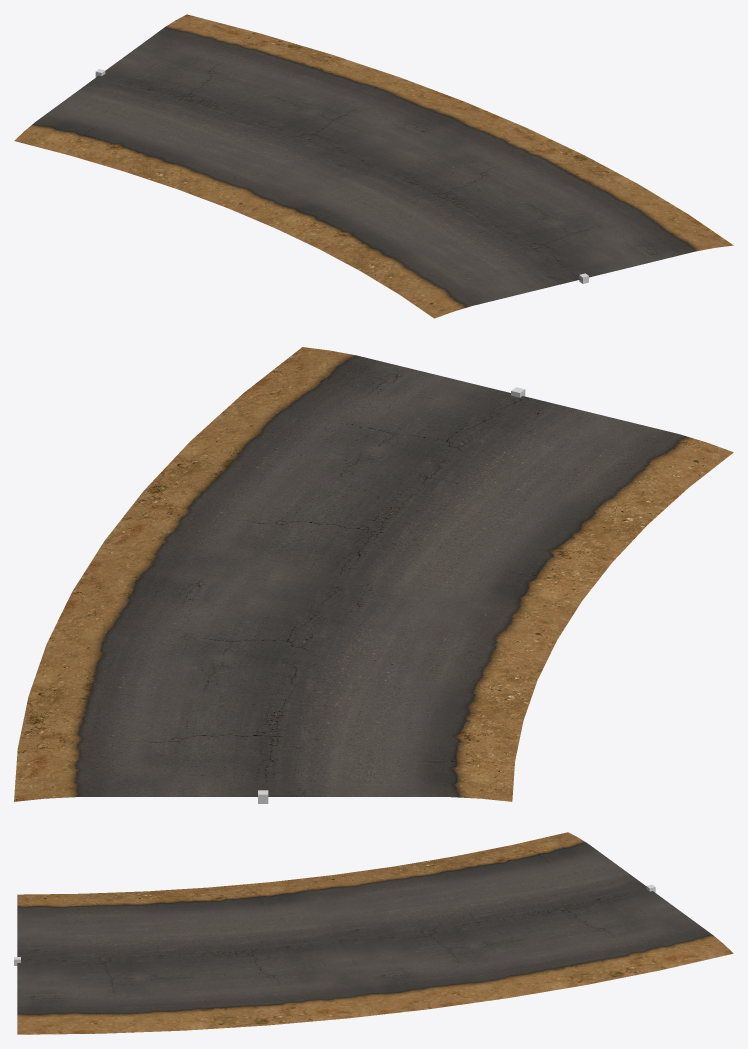
The model's file is roadBend30.L.fbx.
3 renders of one model, top to bottom at view 1: azimuth 30°, elevation 25°; view 2: azimuth 150°, elevation 25°; view 3: azimuth 270°, elevation 25°, orthographic. The views are drawn at different scales.
Visible parts, largest first — view 1: MESH roadBend30.L; view 2: MESH roadBend30.L; view 3: MESH roadBend30.L.
Boxes of the visible parts, left/top/right/bottom form: MESH roadBend30.L: left=14, top=14, right=733, bottom=318; MESH roadBend30.L: left=14, top=347, right=733, bottom=801; MESH roadBend30.L: left=17, top=832, right=733, bottom=1034.
Size of what is drawn, in the model's own units: 3467 by 50.77 by 5209.
